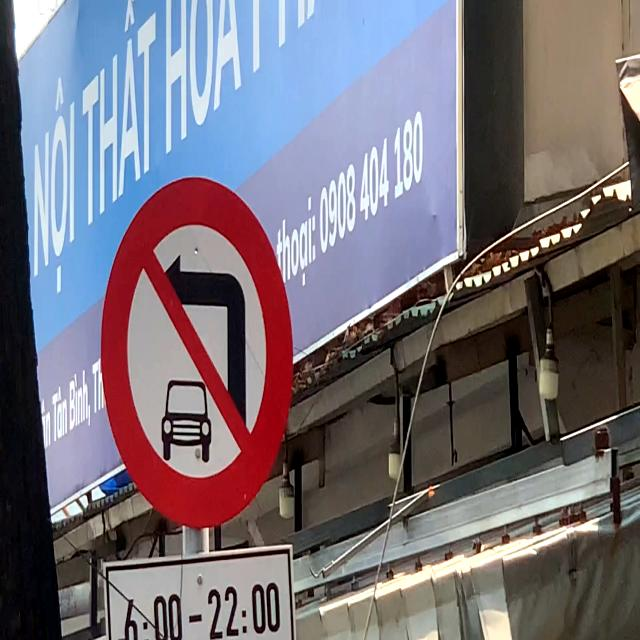P.103c: (100, 174, 294, 529)
